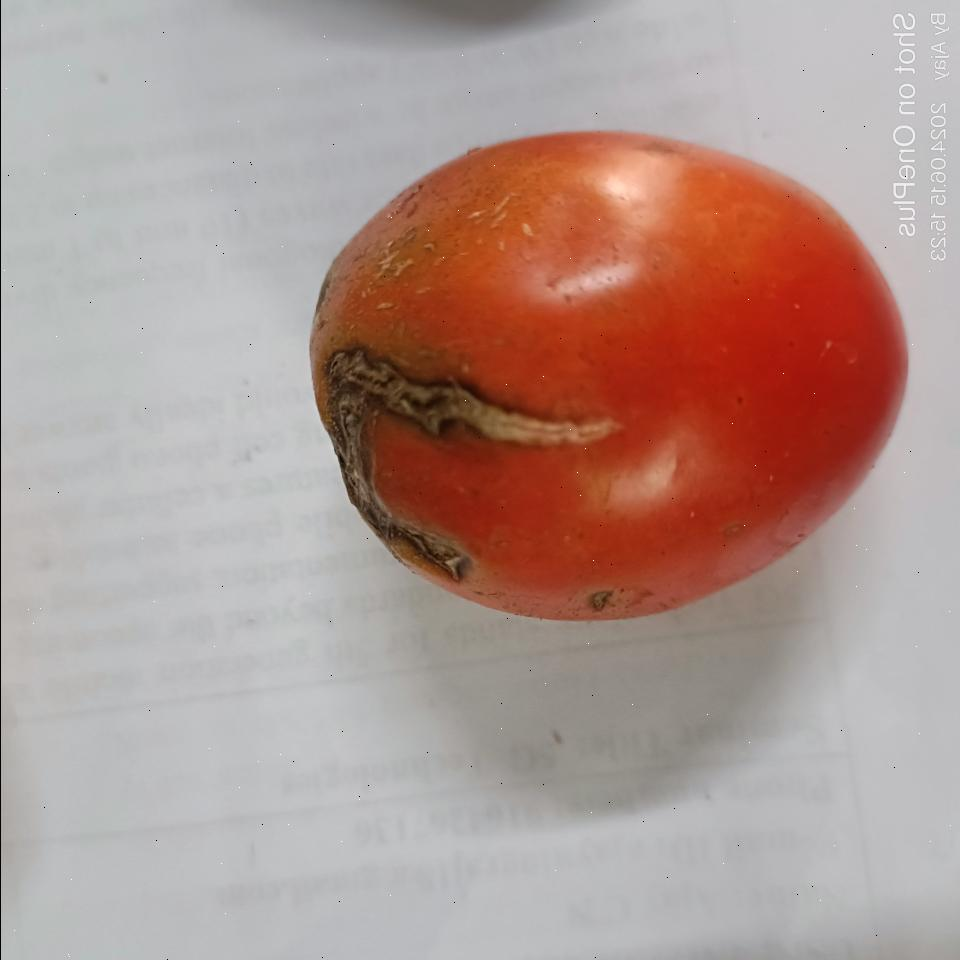Cracking: (317, 343, 612, 592)
